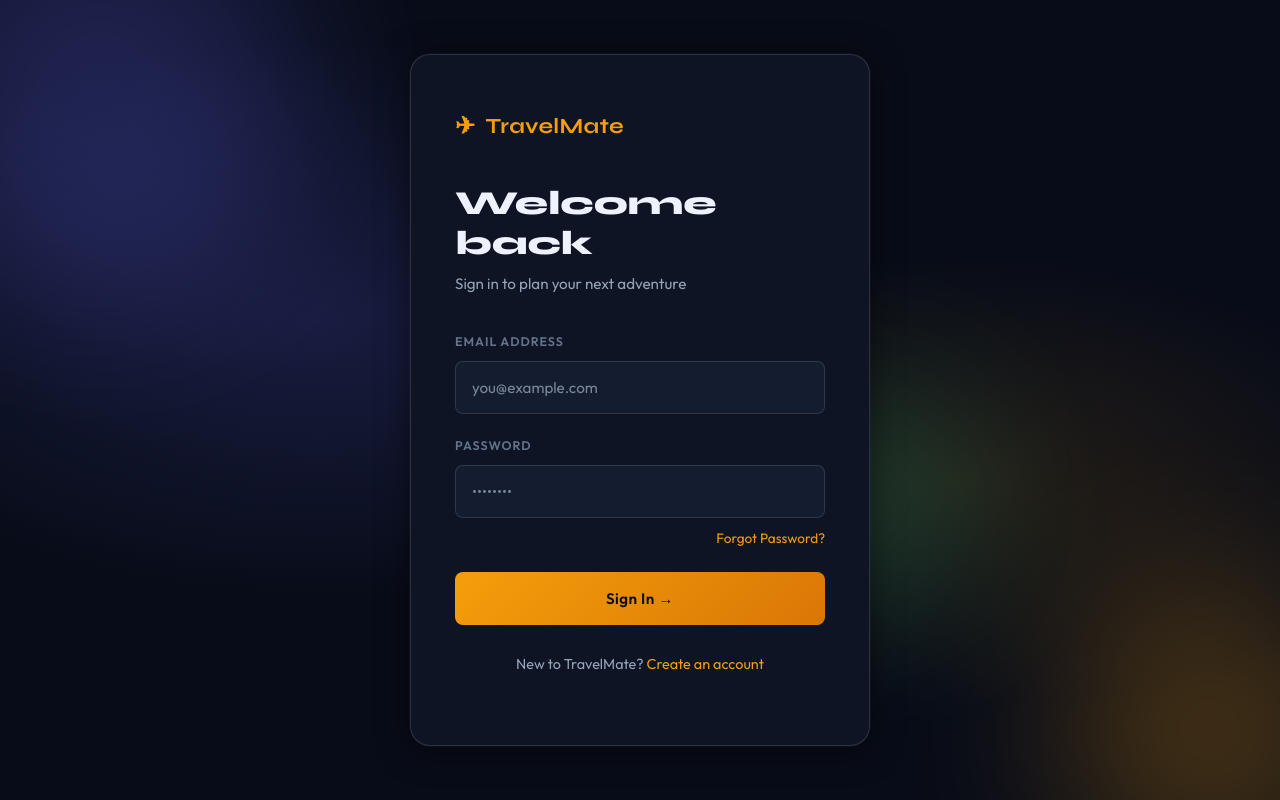
Scenario: Login Component › shows error on failed login
In the field with placeholder "you@example.com": (640, 388) x1=455 y1=361 x2=825 y2=414, type "wrong@test.com"
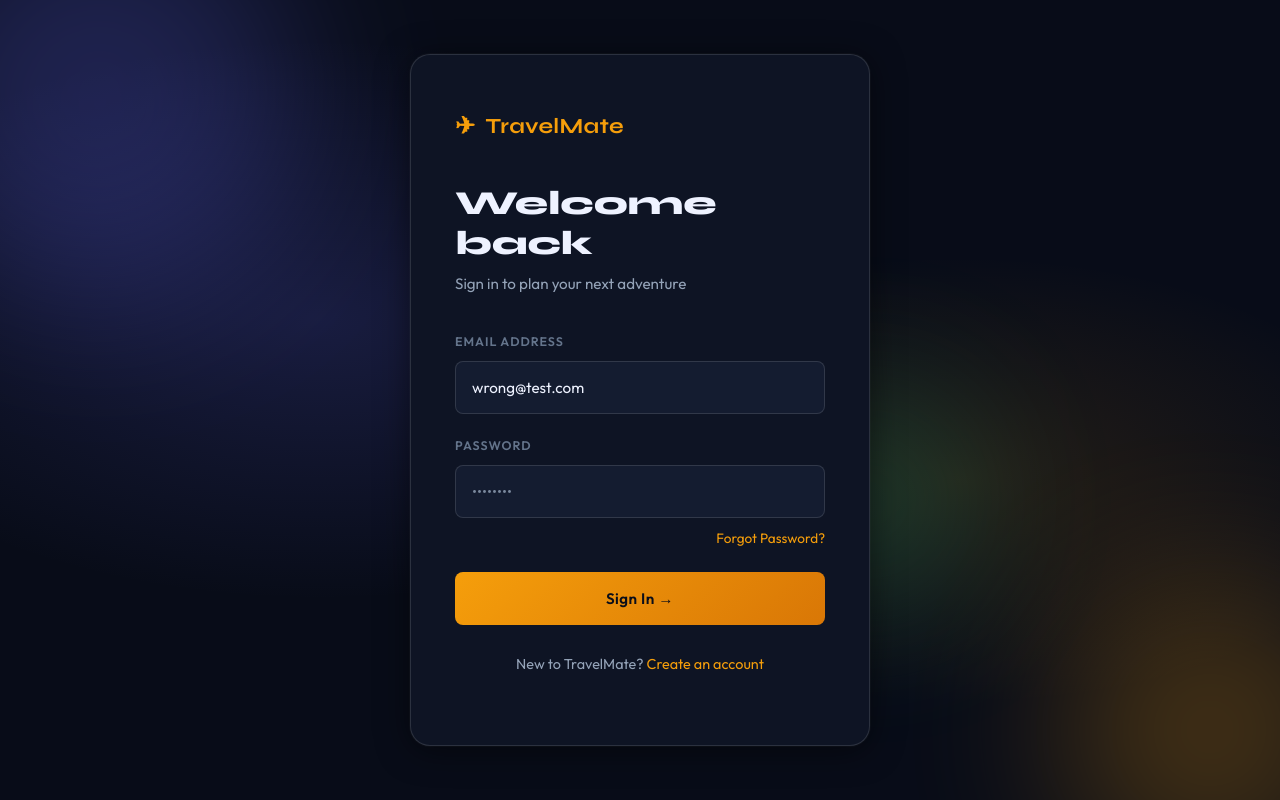
In the password field with placeholder "••••••••": (640, 491) x1=455 y1=465 x2=825 y2=518, type "wrong"
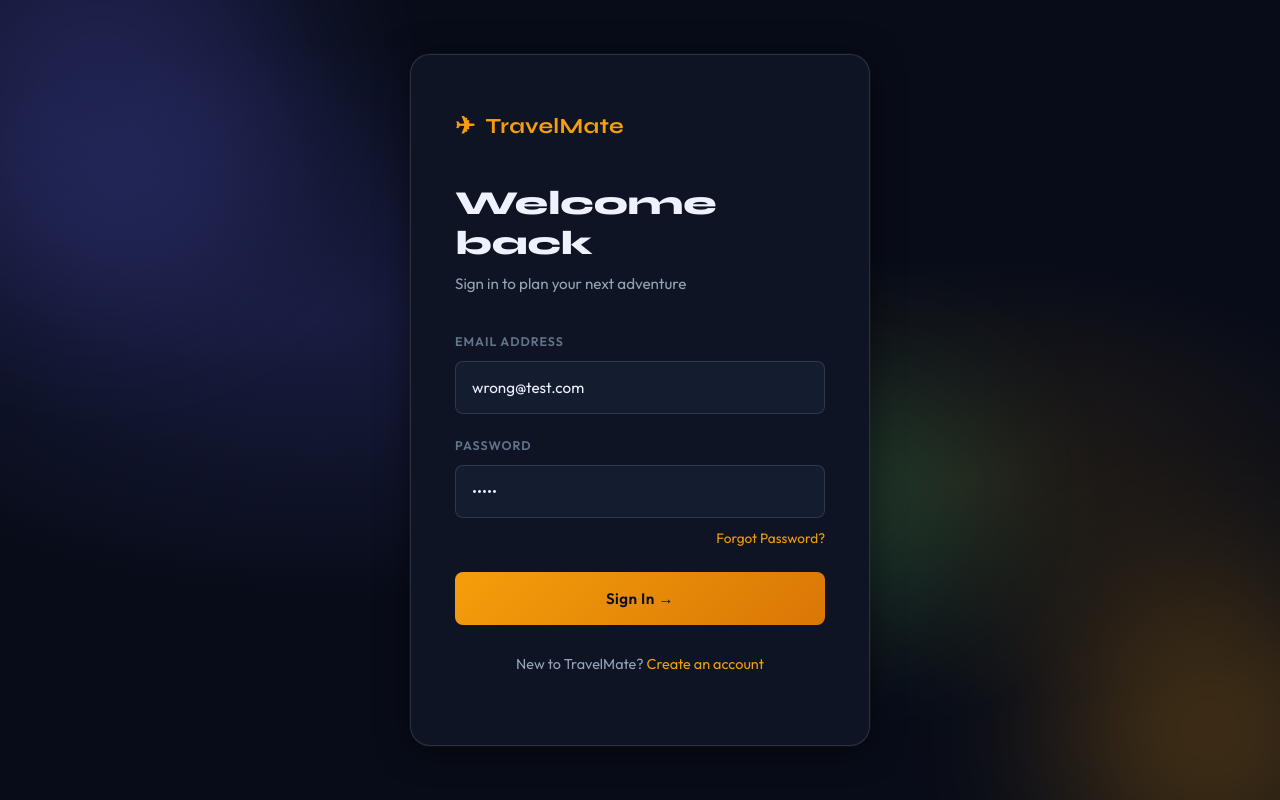
Click the button "Sign In →": (640, 599) x1=455 y1=572 x2=825 y2=625
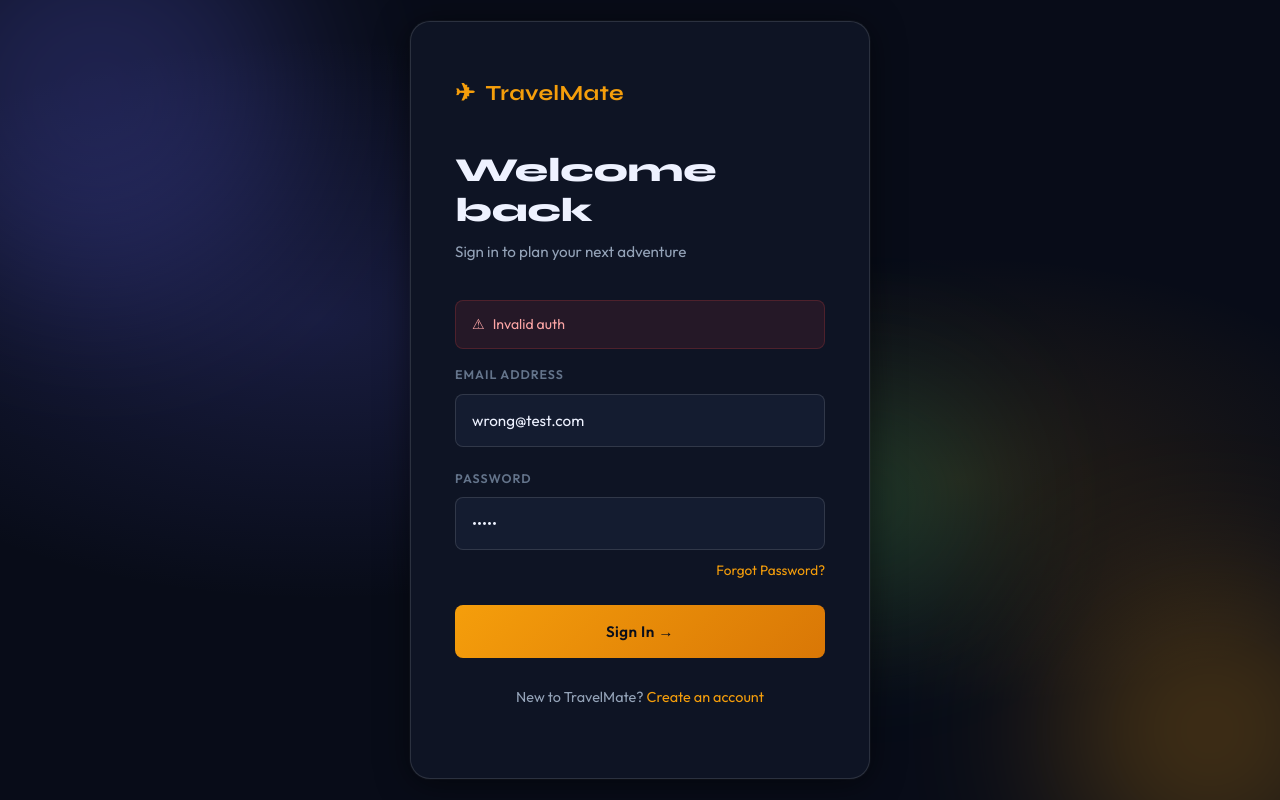
Check: the text "Invalid auth" is shown, box x1=493 y1=315 x2=565 y2=333
